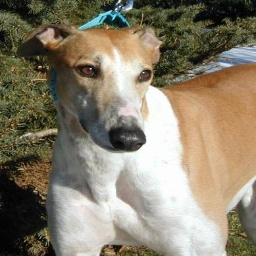dog: (14, 20, 256, 256)
